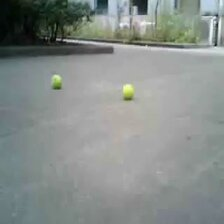tennis: (121, 84, 133, 97), (50, 75, 60, 87)
